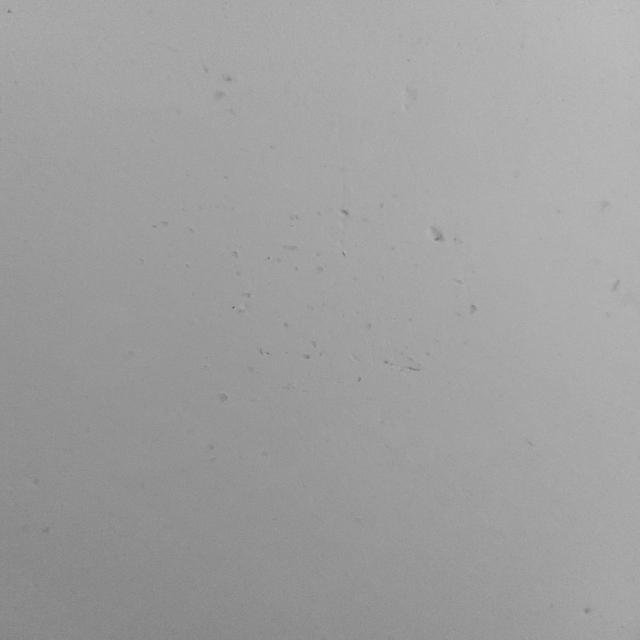rough and patchy surface: (188, 205, 491, 412)
